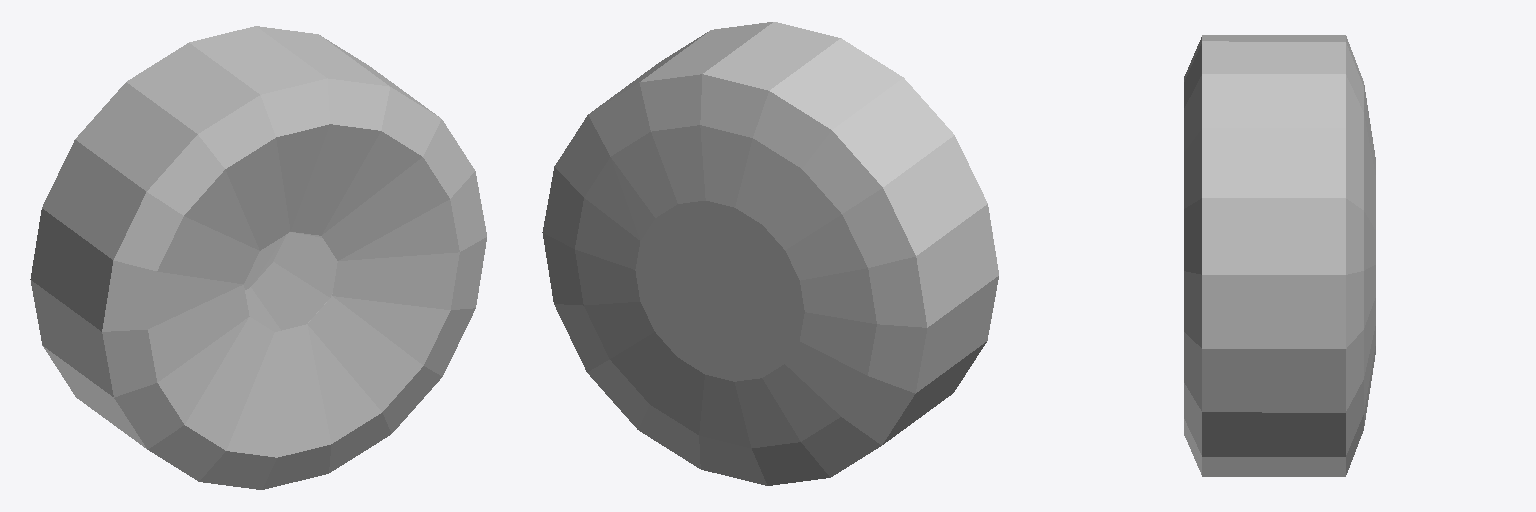
File: zhuanxianglun_2.obj
The picture shows the model from 3 angles: view 1: azimuth 30°, elevation 25°; view 2: azimuth 150°, elevation 25°; view 3: azimuth 270°, elevation 25°; orthographic projection.
Visible parts, largest first — view 1: zhuanxainglun:zhuanxainglun; view 2: zhuanxainglun:zhuanxainglun; view 3: zhuanxainglun:zhuanxainglun.
Part boxes in pixels (x1,y1,x2,y2): zhuanxainglun:zhuanxainglun: (30,26,486,489); zhuanxainglun:zhuanxainglun: (542,22,998,485); zhuanxainglun:zhuanxainglun: (1184,35,1375,476).
Size of the model in its own units: 98.05 by 96.34 by 42.25.